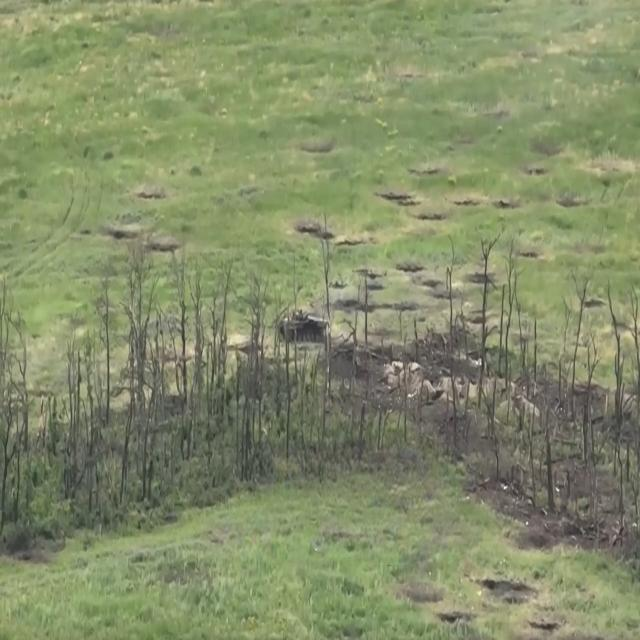AIFV: (280, 307, 330, 346)
